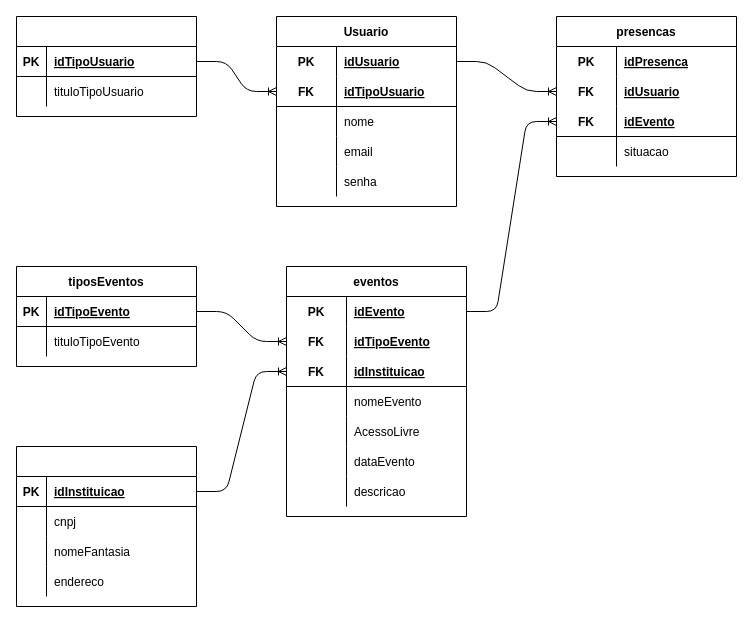
Some shapes in this 753 by 623 pixel diagram are drawn without their labels. Here are the shapes that lost their labels. From the top down, the box of each, then its label:
(16, 16, 196, 116): tiposUsuarios
(16, 446, 196, 606): instituicoes
